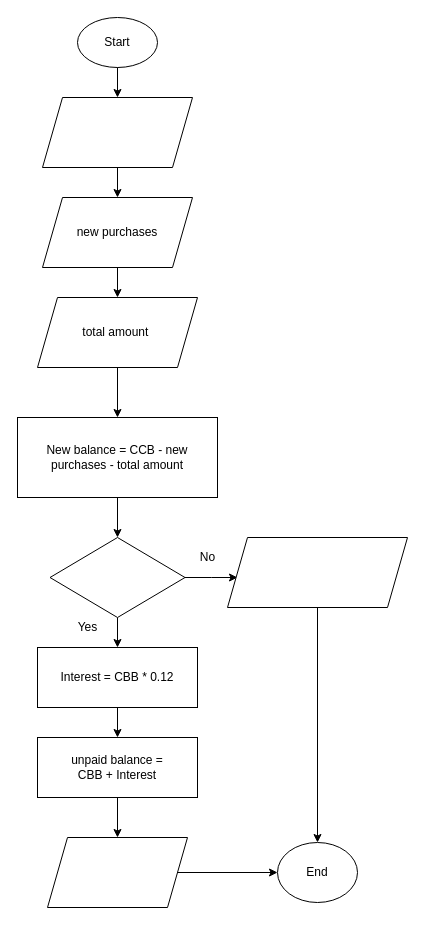
Image size: 425x925. Some labels were removed from this diagram. The shapes that lost their labels are listed below. From the top down, each one's centre as x and y in pixels, then its label:
At [117,132]: "CCB = Credit Card balance".
At [117,577]: "If New balance < 0".
At [317,572]: "Display New Balance".
At [117,872]: "Display unpaid balance".
